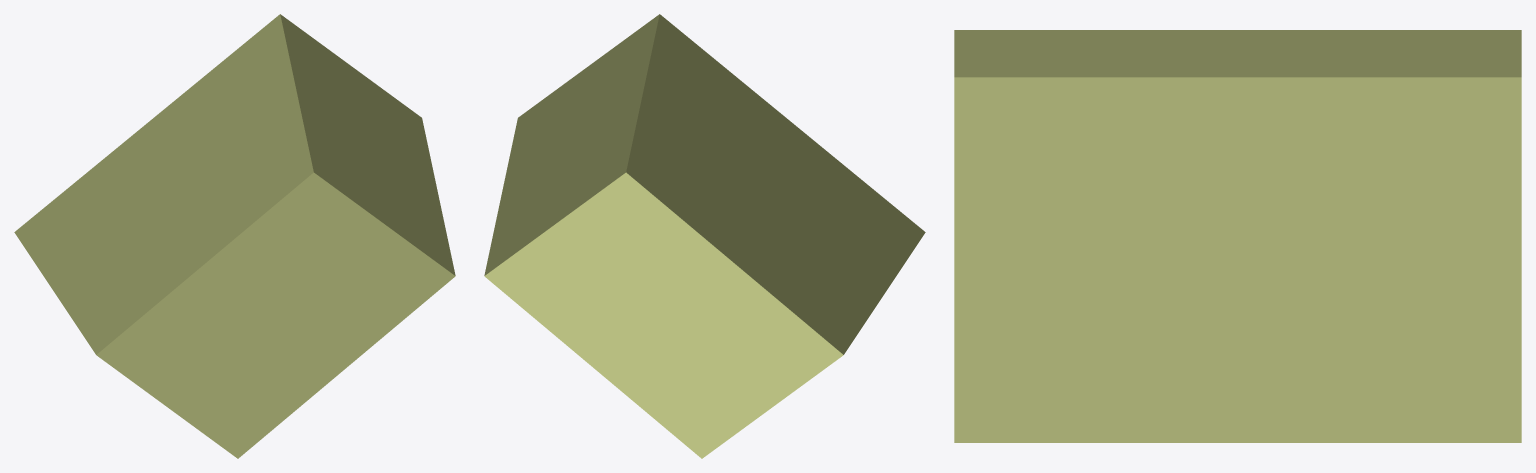
The picture shows the model from 3 angles, left to right: view 1: azimuth 30°, elevation 25°; view 2: azimuth 150°, elevation 25°; view 3: azimuth 270°, elevation 25°; orthographic projection. The views are drawn at different scales.
Visible parts, largest first — view 1: 0_0_1_2_0_0_3_3_1_0; view 2: 0_0_1_2_0_0_3_3_1_0; view 3: 0_0_1_2_0_0_3_3_1_0.
Part boxes in pixels (x1,y1,x2,y2): 0_0_1_2_0_0_3_3_1_0: [14, 14, 455, 458]; 0_0_1_2_0_0_3_3_1_0: [484, 14, 925, 458]; 0_0_1_2_0_0_3_3_1_0: [954, 30, 1521, 442].
Size of the model in its own units: 10.97 by 10.37 by 9.
